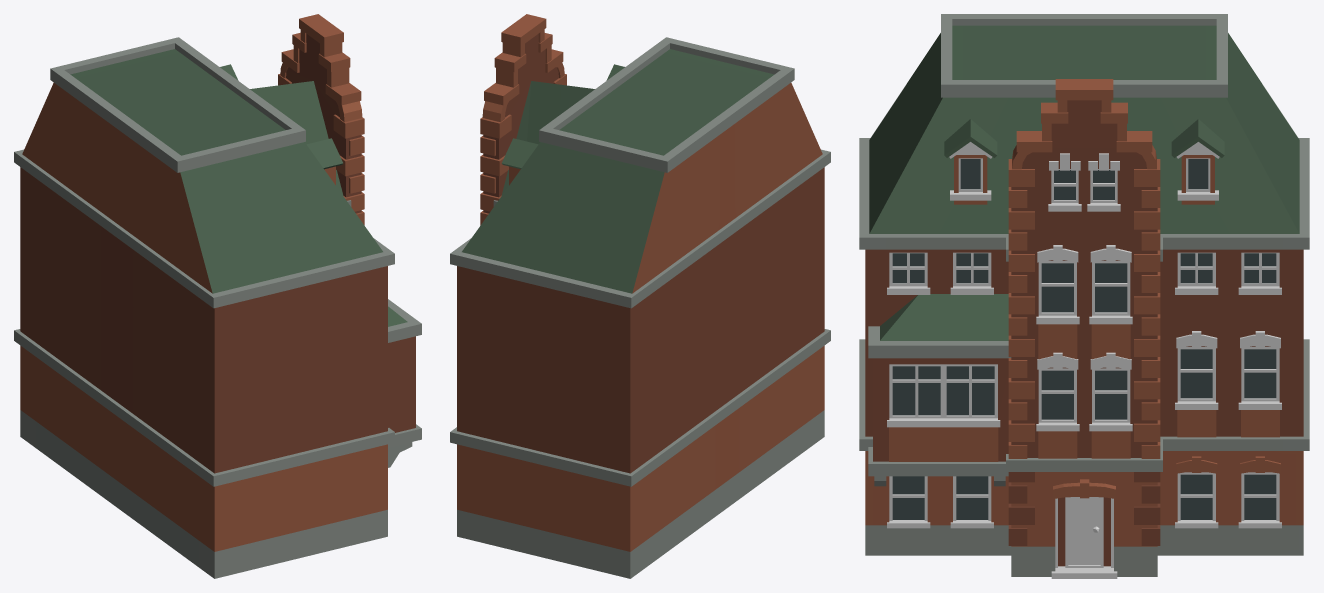
Rendered from House-2-1.glb.
The picture shows the model from 3 angles, left to right: view 1: azimuth 30°, elevation 25°; view 2: azimuth 150°, elevation 25°; view 3: azimuth 270°, elevation 25°; orthographic projection. The views are drawn at different scales.
Visible parts, largest first — view 1: Main-2-1, WallExtension-2-1, RoofWindowFront-2-1; view 2: Main-2-1, RoofWindowFront-2-1; view 3: Main-2-1, WallExtension-2-1, RoofWindowFront-2-1.
Boxes of the visible parts, x1,y1,x2,y2 form: Main-2-1: [14, 14, 394, 578]; WallExtension-2-1: [388, 299, 421, 467]; RoofWindowFront-2-1: [220, 64, 343, 185]; Main-2-1: [450, 14, 830, 578]; RoofWindowFront-2-1: [501, 64, 624, 185]; Main-2-1: [859, 14, 1309, 578]; WallExtension-2-1: [868, 294, 1011, 486]; RoofWindowFront-2-1: [944, 119, 1224, 204].
Bounding box in the file's own units: 7.85 × 14.55 × 12.17.
2 materials, 2 textured.
